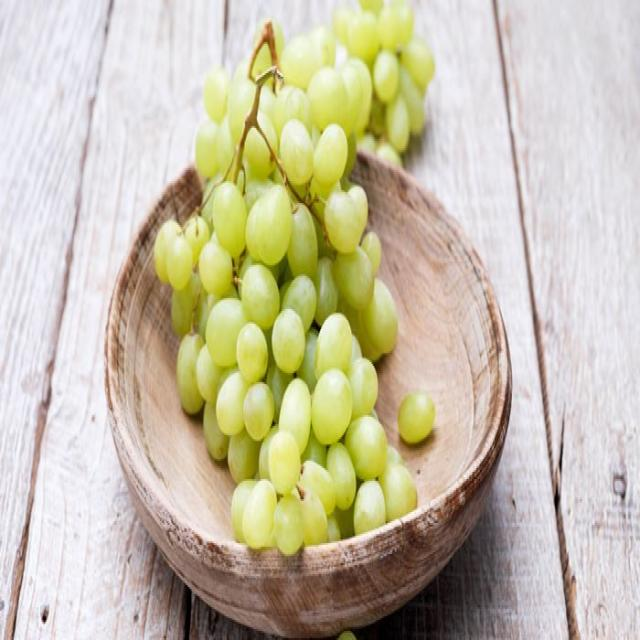grape: (157, 51, 400, 536), (290, 4, 444, 140)
